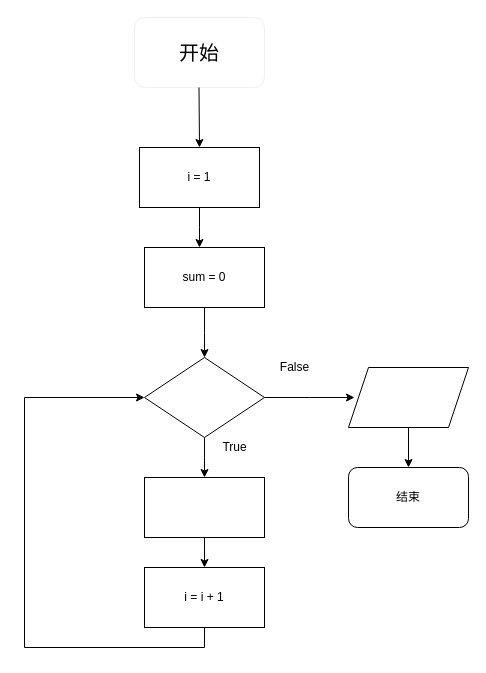
Image size: 486x673. Some labels were removed from this diagram. The shapes that lost their labels are listed below. From the top down, each one's centre as x and y in pixels, then its label:
point 204,397: i <= 100
point 408,397: 输出 sum
point 204,507: sum = sum + 1
